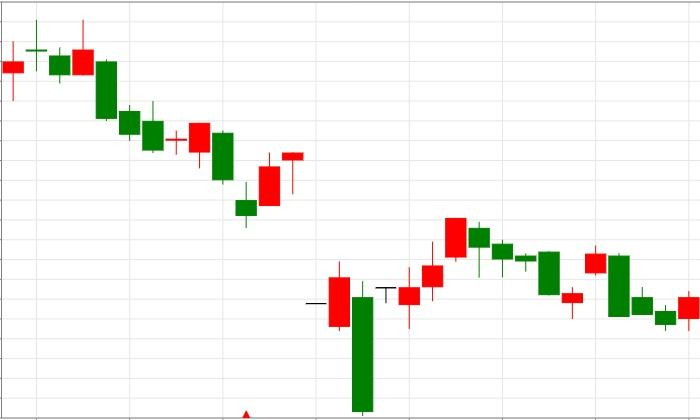morning_star_rise: (96, 59, 280, 228)
